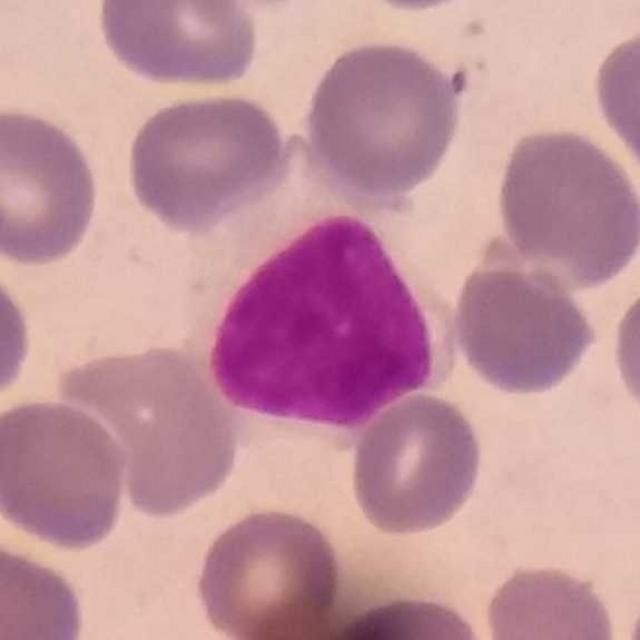Lymphocyte: (186, 144, 462, 437)
RBC: (55, 339, 247, 521), (298, 35, 469, 202), (121, 86, 296, 232), (491, 122, 639, 290), (447, 257, 601, 400), (346, 388, 488, 539), (0, 394, 134, 552), (191, 503, 343, 639), (0, 102, 105, 268), (93, 0, 263, 91), (479, 558, 622, 640), (0, 534, 90, 640), (587, 21, 640, 188), (327, 591, 494, 640), (0, 257, 36, 415), (607, 273, 640, 432), (172, 0, 324, 17), (345, 0, 493, 14)
